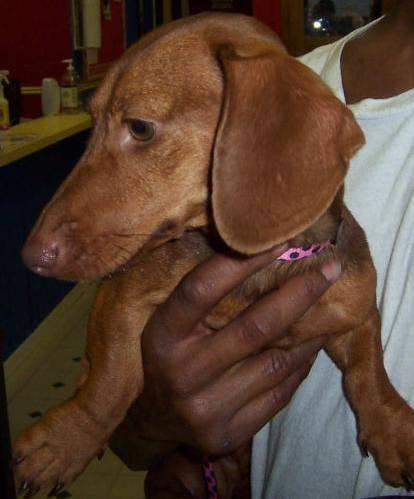dog: (14, 13, 413, 498)
